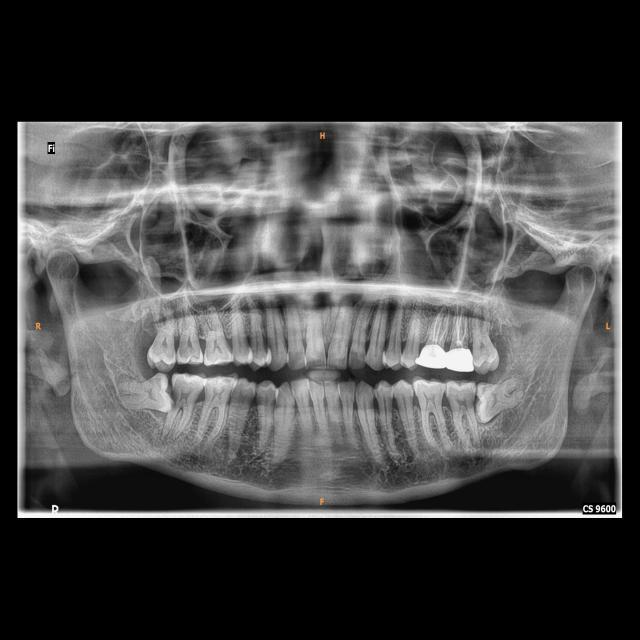kanal-tedavisi: (449, 310, 473, 350), (430, 310, 451, 348)
kaplama: (444, 344, 476, 376), (415, 342, 448, 372)
